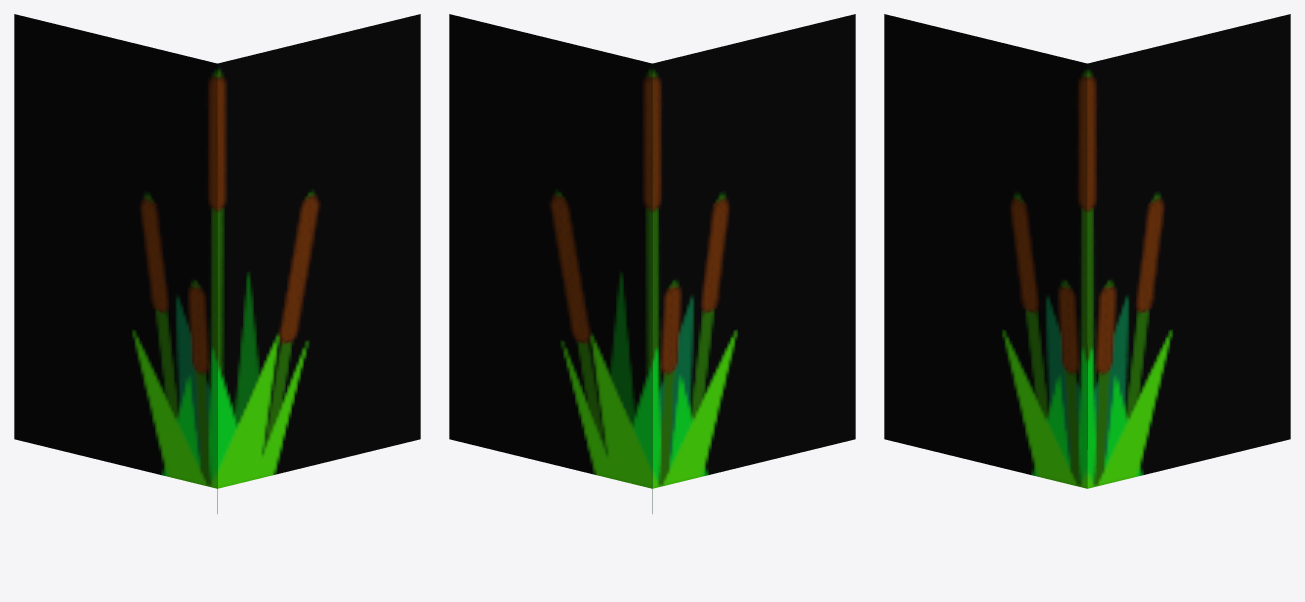
File: Cattail.glb
The picture shows the model from 3 angles, left to right: view 1: azimuth 30°, elevation 25°; view 2: azimuth 150°, elevation 25°; view 3: azimuth 270°, elevation 25°; orthographic projection.
Visible parts, largest first — view 1: Cattail; view 2: Cattail; view 3: Cattail.
Boxes of the visible parts, left/top/right/bottom form: Cattail: left=14, top=14, right=420, bottom=513; Cattail: left=449, top=14, right=855, bottom=513; Cattail: left=884, top=14, right=1290, bottom=488.
Bounding box in the file's own units: 1.5 × 2 × 1.73.
Materials: 1 (1 with a texture image).
